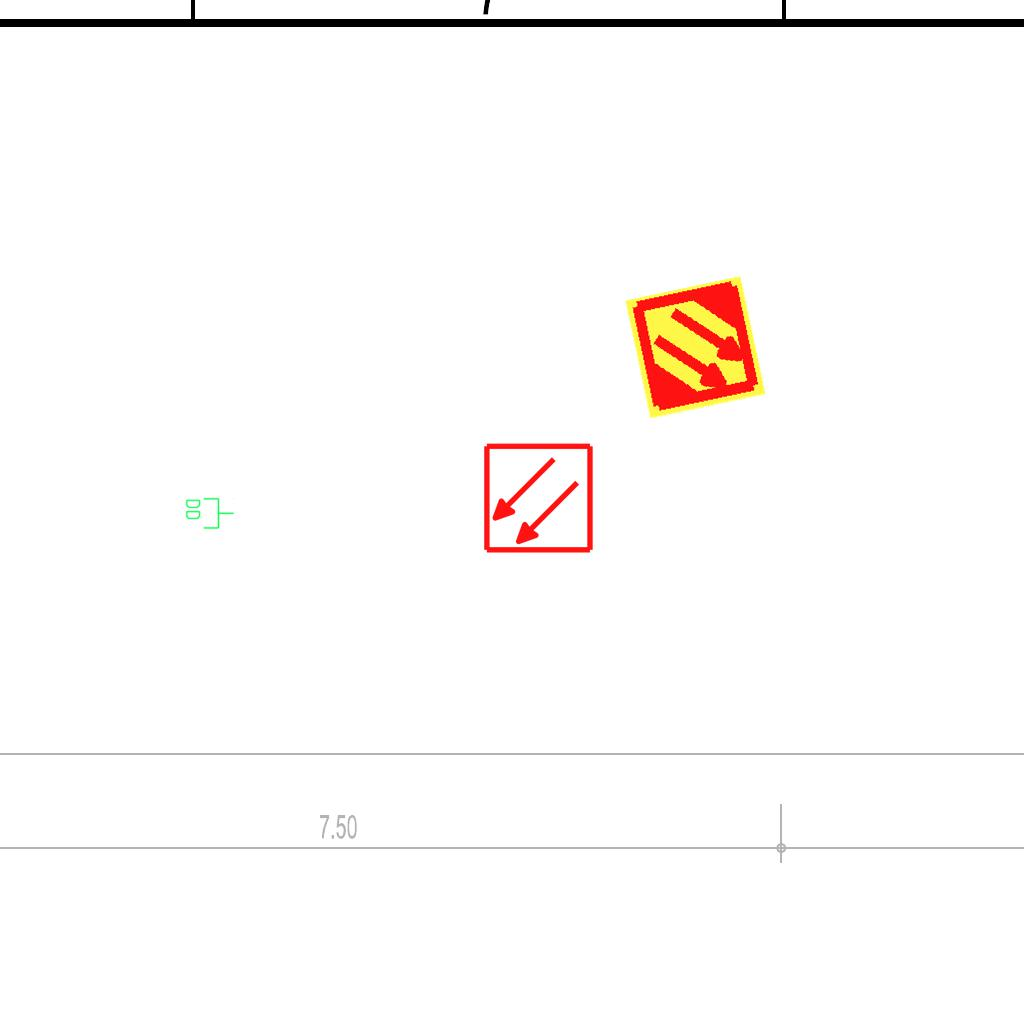ASR_Ansaugrauchmelder: (621, 273, 770, 422)
Datenanschluss_zweifach: (184, 496, 235, 530)
RMO_Rauchmelder_optischer: (482, 442, 595, 555)
